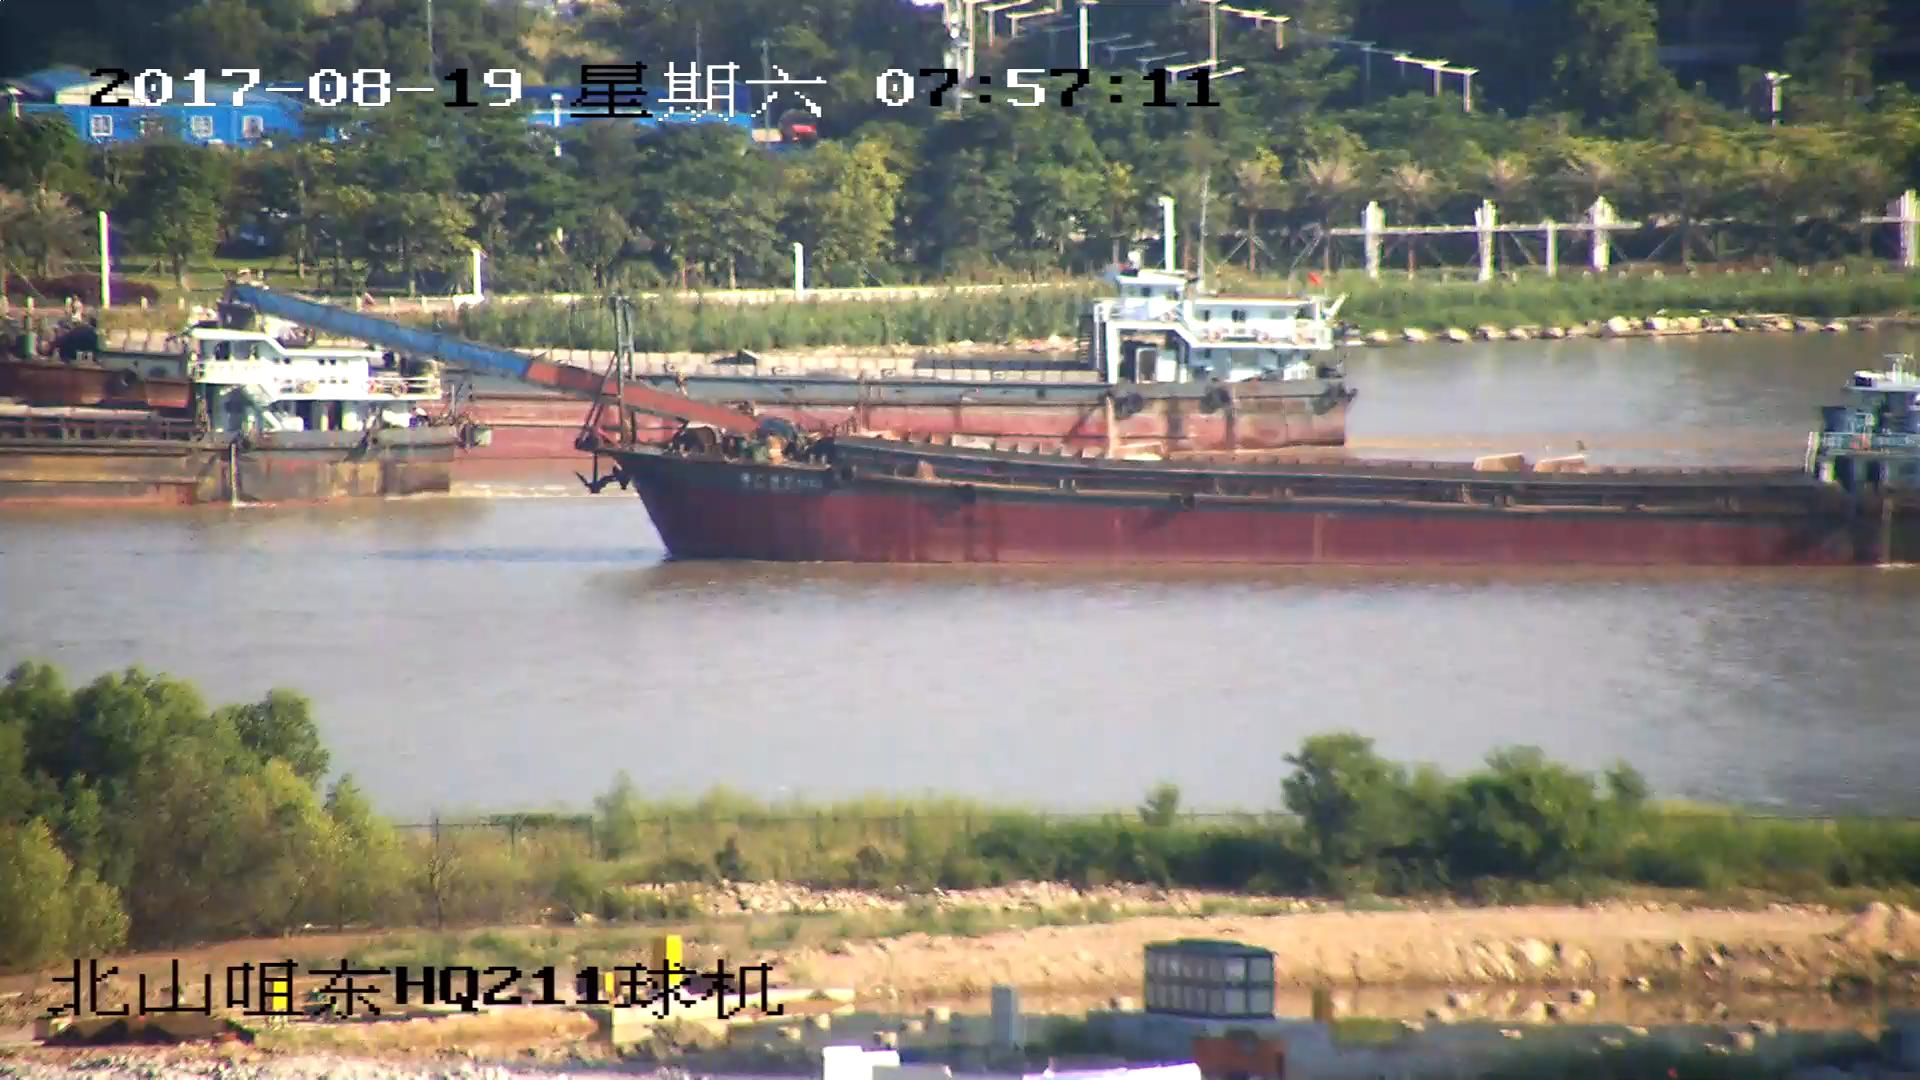bulk cargo carrier: (237, 278, 1920, 570), (173, 261, 1363, 438), (1, 328, 471, 498)
